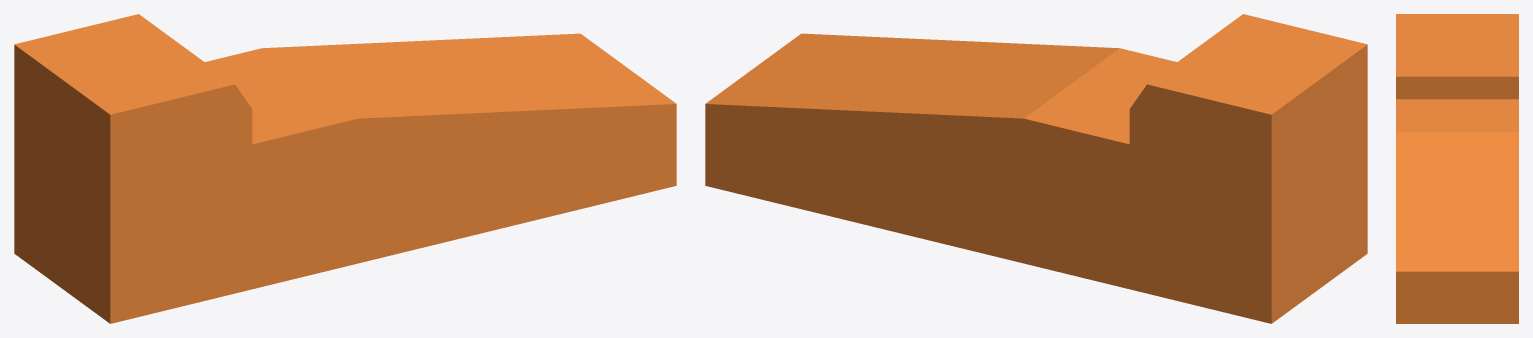
Rendered from QEV3_4.dae.
3 views of the same model, side by side, from view 1: azimuth 30°, elevation 25°; view 2: azimuth 150°, elevation 25°; view 3: azimuth 270°, elevation 25° (orthographic). The views are drawn at different scales.
Parts seen in each view (by area): view 1: QEV3_1; view 2: QEV3_1; view 3: QEV3_1.
Boxes of the visible parts, x1,y1,x2,y2 form: QEV3_1: (14,14,676,323); QEV3_1: (705,14,1367,323); QEV3_1: (1396,14,1518,323).
Bounding box in the file's own units: 1.7 × 0.5 × 0.6.
